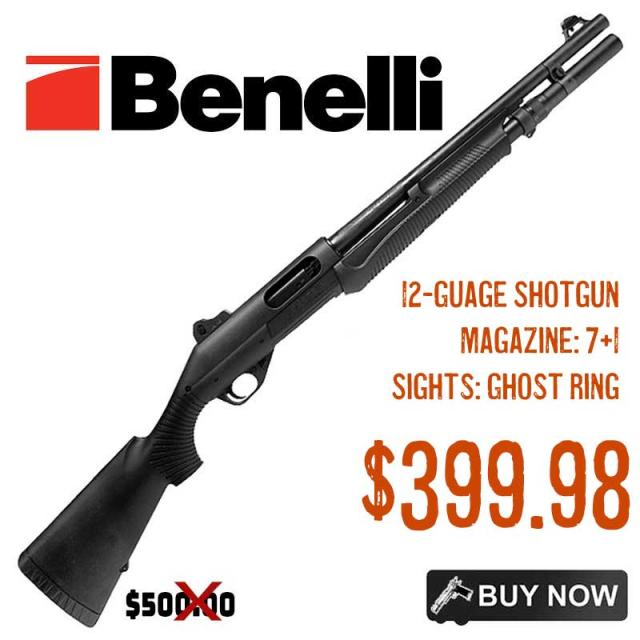ShotGun: (18, 15, 624, 630)
